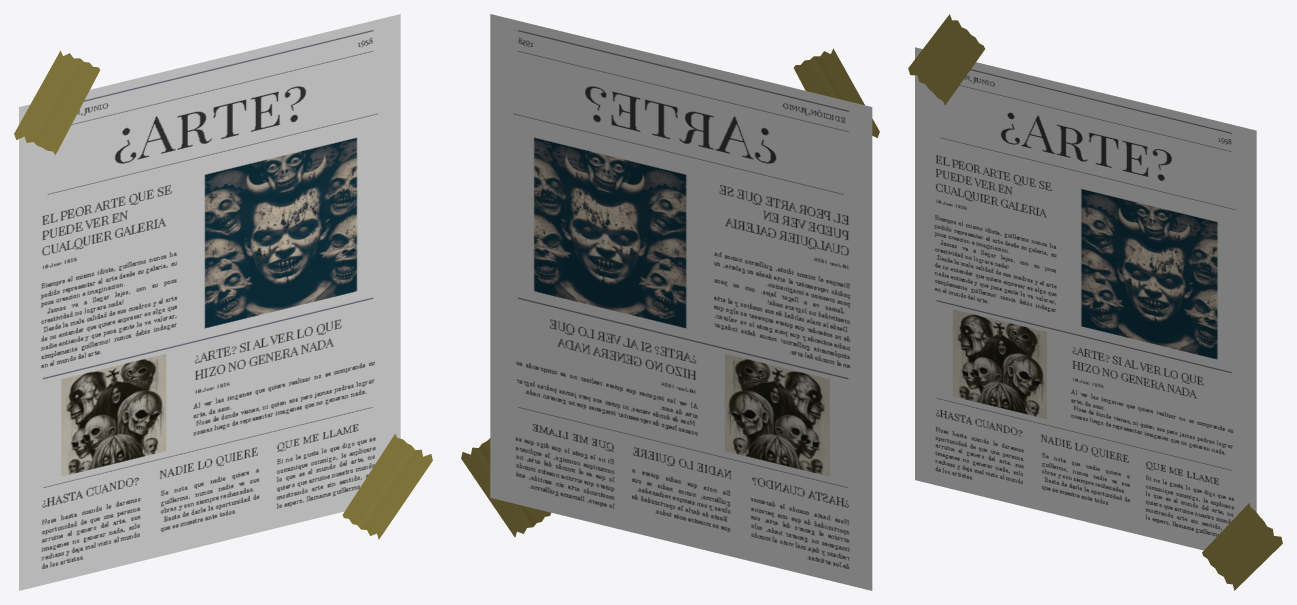
File: Diario5.fbx
The picture shows the model from 3 angles, left to right: view 1: azimuth 30°, elevation 25°; view 2: azimuth 150°, elevation 25°; view 3: azimuth 330°, elevation 25°; orthographic projection. The views are drawn at different scales.
Parts seen in each view (by area): view 1: Plane.005, Plane.002, Plane.001; view 2: Plane.005, Plane.001, Plane.002; view 3: Plane.005, Plane.001, Plane.002.
Part boxes in pixels (<box>): Plane.005: <box>19,14,400,590</box>; Plane.002: <box>342,434,432,539</box>; Plane.001: <box>14,51,99,154</box>; Plane.005: <box>490,14,872,590</box>; Plane.001: <box>794,48,879,137</box>; Plane.002: <box>461,438,550,537</box>; Plane.005: <box>915,47,1256,550</box>; Plane.001: <box>908,14,984,105</box>; Plane.002: <box>1202,503,1282,590</box>.
Size of the model in its own units: 240 by 311 by 1.55.
